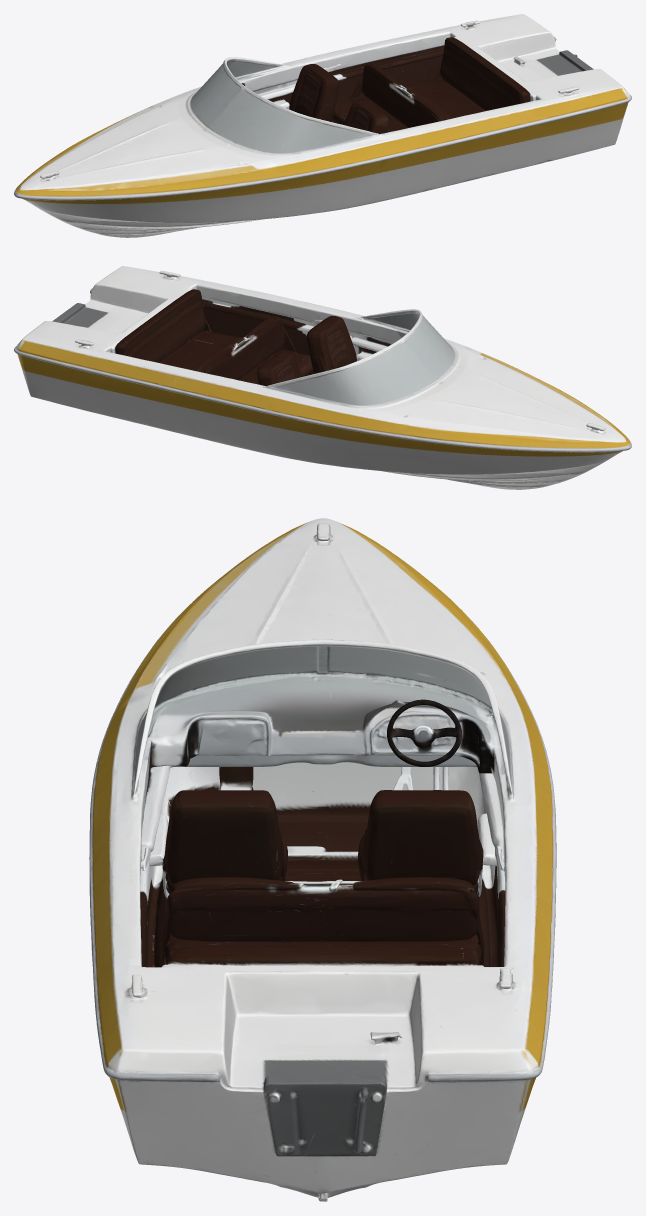
File: vene_meshy.glb
3 renders of one model, top to bottom at view 1: azimuth 30°, elevation 25°; view 2: azimuth 150°, elevation 25°; view 3: azimuth 270°, elevation 25°, orthographic. The views are drawn at different scales.
Bounding box in the file's own units: 6.03 × 1.3 × 2.13.
Materials: 1 (1 with a texture image).
